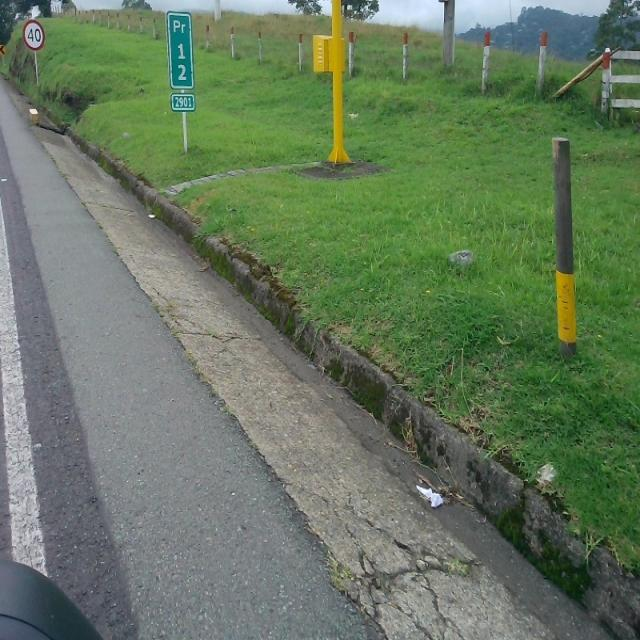DITCH: (2, 50, 638, 637), (3, 73, 637, 638)
